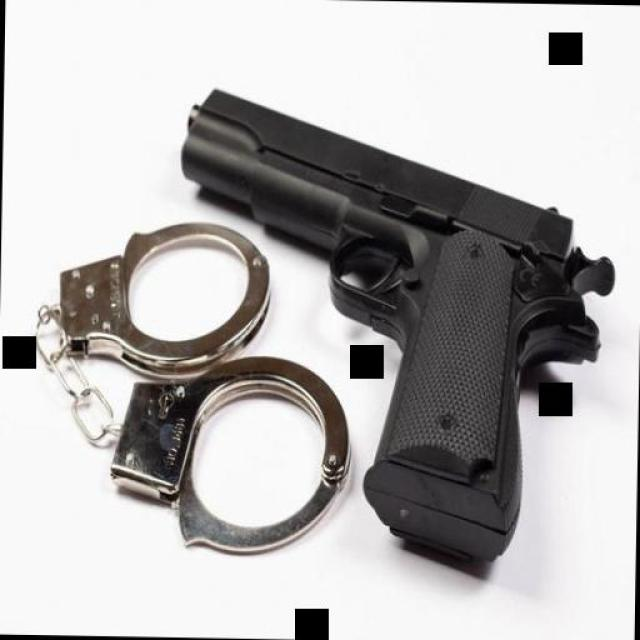gun: (170, 67, 619, 594)
